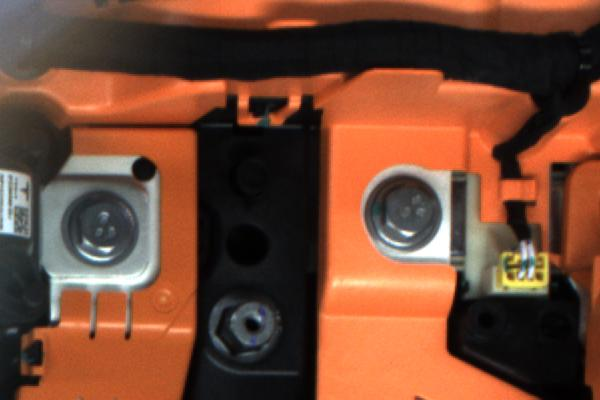nut_b: (350, 166, 450, 258), (58, 187, 145, 272)
